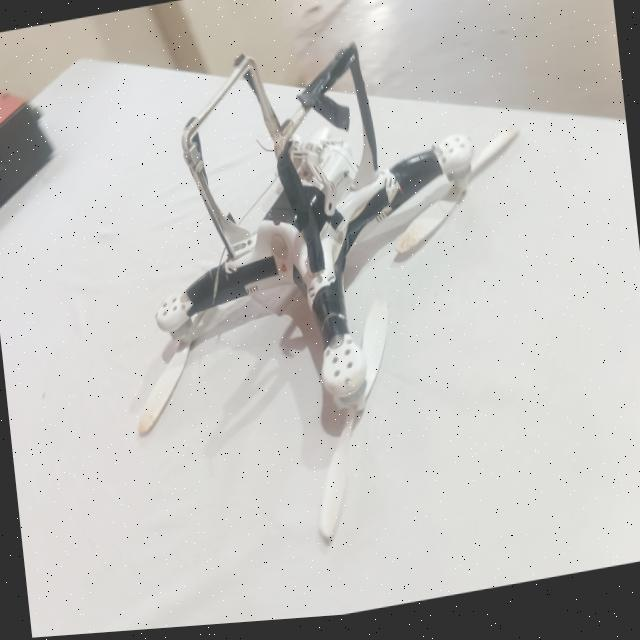drone: (114, 0, 508, 452)
